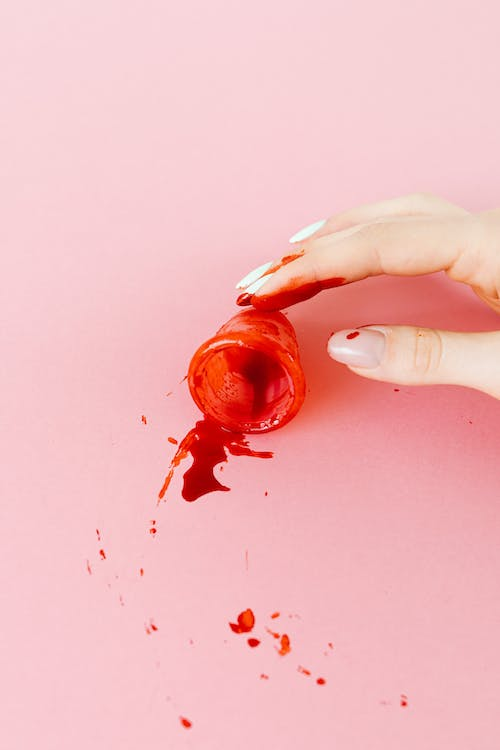blood: (82, 370, 476, 734), (232, 249, 428, 343), (187, 306, 307, 437)
